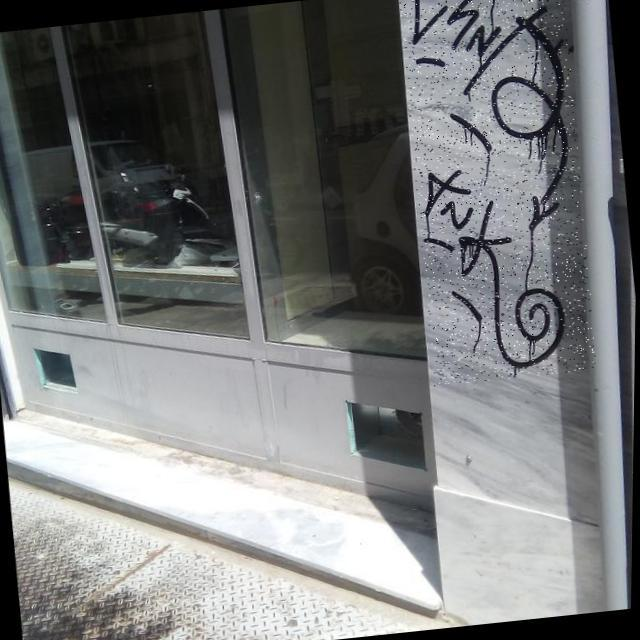-: (394, 0, 603, 386)
